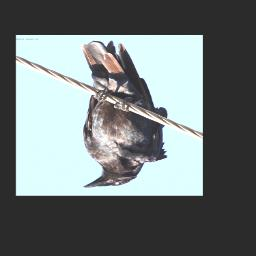Crow: (80, 40, 168, 190)
